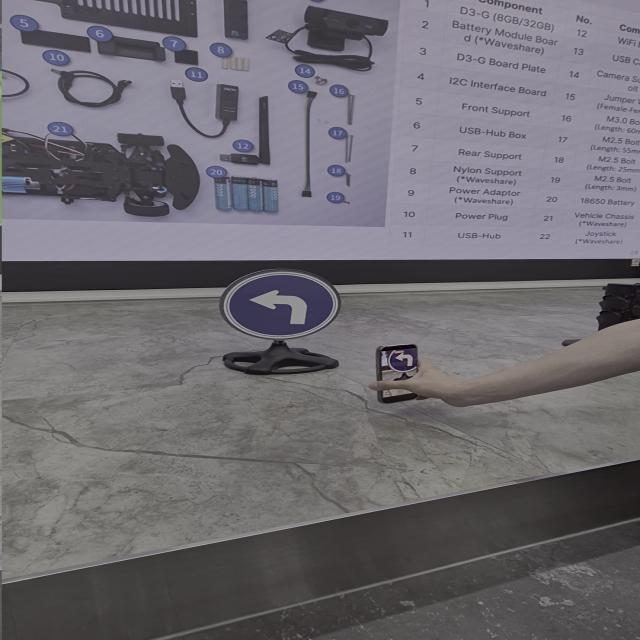left_direction: (217, 264, 346, 345)
